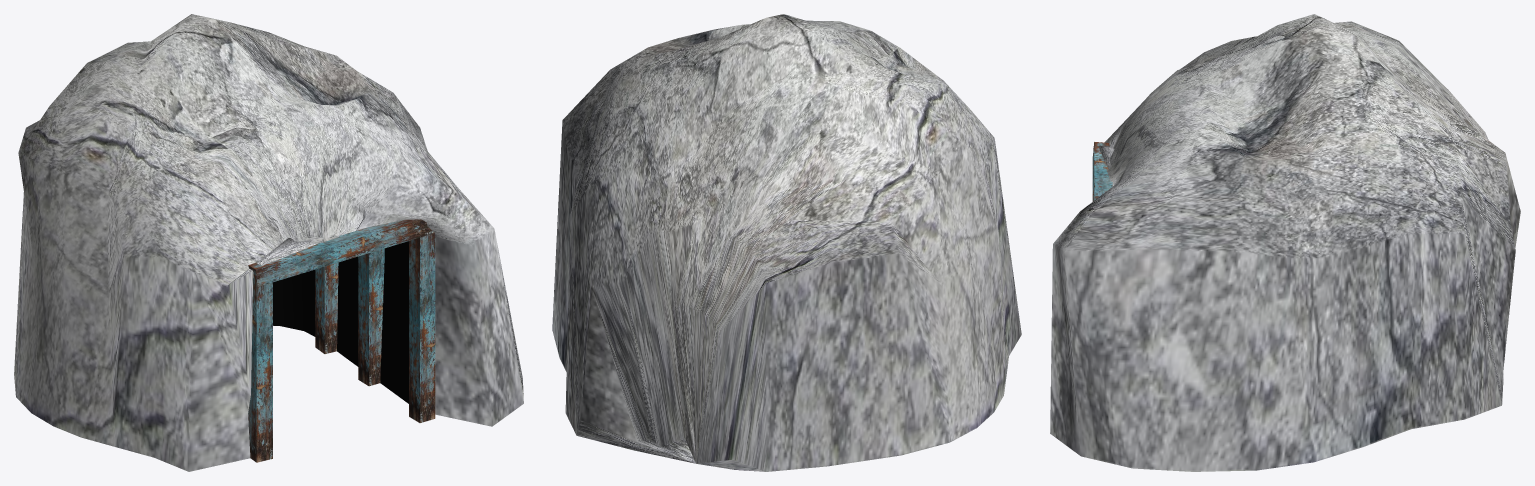
Rendered from entrada mina.fbx.
The picture shows the model from 3 angles, left to right: view 1: azimuth 30°, elevation 25°; view 2: azimuth 150°, elevation 25°; view 3: azimuth 270°, elevation 25°; orthographic projection. The views are drawn at different scales.
Visible parts, largest first — view 1: mine entrance; view 2: mine entrance; view 3: mine entrance.
Boxes of the visible parts, x1,y1,x2,y2 form: mine entrance: (14, 14, 523, 471); mine entrance: (552, 14, 1021, 471); mine entrance: (1050, 14, 1520, 471).
Bounding box in the file's own units: 293 × 296 × 233.
Materials: 3 (2 with a texture image).
